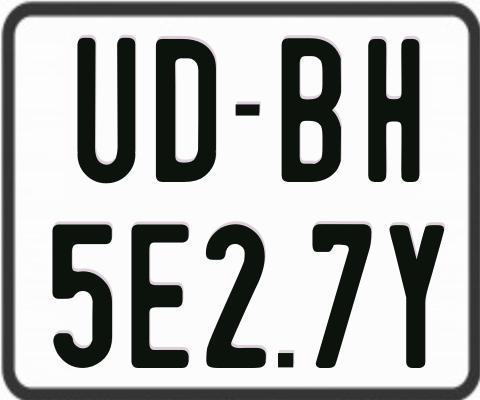2: (203, 221, 266, 366)
5: (52, 222, 116, 371)
7: (309, 223, 371, 373)
B: (282, 38, 347, 188)
D: (155, 36, 216, 180)
E: (130, 222, 188, 367)
H: (368, 39, 420, 184)
U: (74, 36, 136, 182)
Y: (388, 222, 443, 365)
